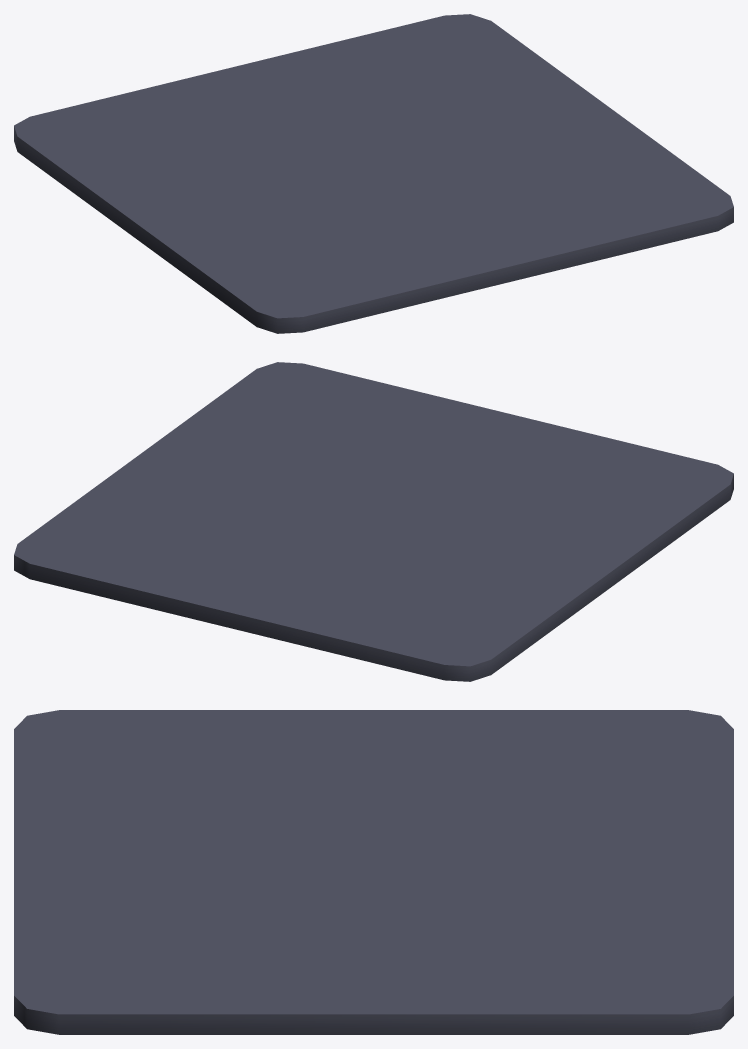
Rendered from kenney-building-roof-flat-patch-large.glb.
The picture shows the model from 3 angles, top to bottom: view 1: azimuth 30°, elevation 25°; view 2: azimuth 150°, elevation 25°; view 3: azimuth 270°, elevation 25°; orthographic projection. The views are drawn at different scales.
Visible parts, largest first — view 1: roof-flat-patch-large; view 2: roof-flat-patch-large; view 3: roof-flat-patch-large.
Boxes of the visible parts, x1,y1,x2,y2 form: roof-flat-patch-large: (14,14,733,333); roof-flat-patch-large: (14,362,733,681); roof-flat-patch-large: (14,710,733,1034).
Bounding box in the file's own units: 1.6 × 0.05 × 1.6.
Materials: 1 (1 with a texture image).
